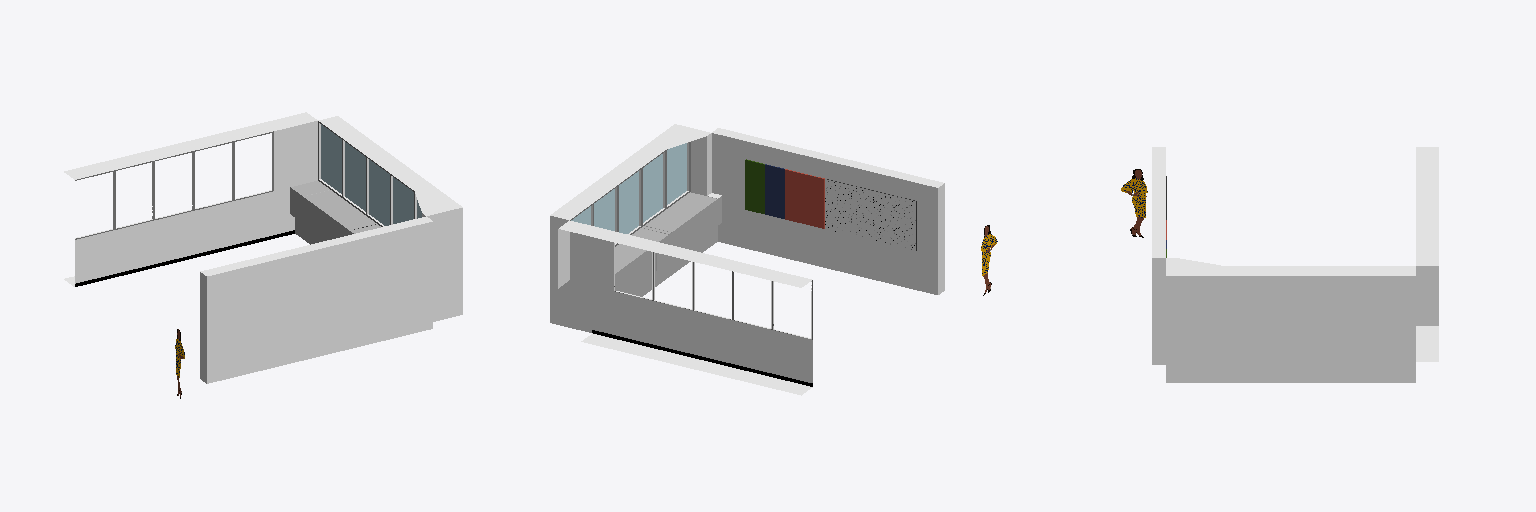
The picture shows the model from 3 angles: view 1: azimuth 30°, elevation 25°; view 2: azimuth 150°, elevation 25°; view 3: azimuth 270°, elevation 25°; orthographic projection.
Visible parts, largest first — view 1: Mesh2 Model; view 2: Mesh2 Model, Mesh1 Sumele1 Model; view 3: Mesh2 Model, Mesh1 Sumele1 Model.
Boxes of the visible parts, box(x1,y1,x2,y2) form: Mesh2 Model: box(64, 112, 462, 383); Mesh2 Model: box(550, 124, 944, 395); Mesh1 Sumele1 Model: box(981, 225, 997, 295); Mesh2 Model: box(1152, 147, 1438, 382); Mesh1 Sumele1 Model: box(1121, 169, 1147, 237).
Bounding box in the file's own units: 7.55 × 2.58 × 6.94.
17 materials, 1 textured.